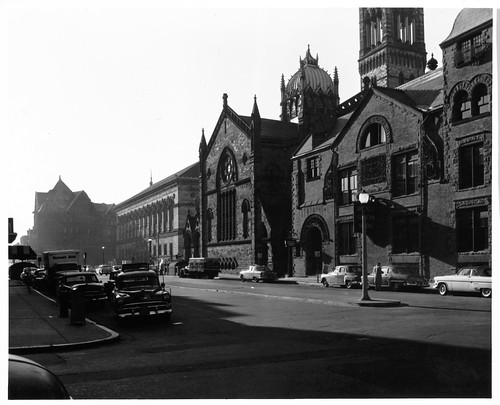building: (288, 17, 500, 277), (196, 56, 335, 271), (107, 167, 193, 272), (36, 180, 112, 261)
car: (108, 259, 170, 337), (427, 259, 495, 301), (379, 251, 436, 291), (57, 273, 104, 314), (314, 261, 364, 290), (239, 255, 278, 284), (181, 258, 225, 281)
sky: (2, 1, 343, 181)
street: (95, 280, 500, 405)
